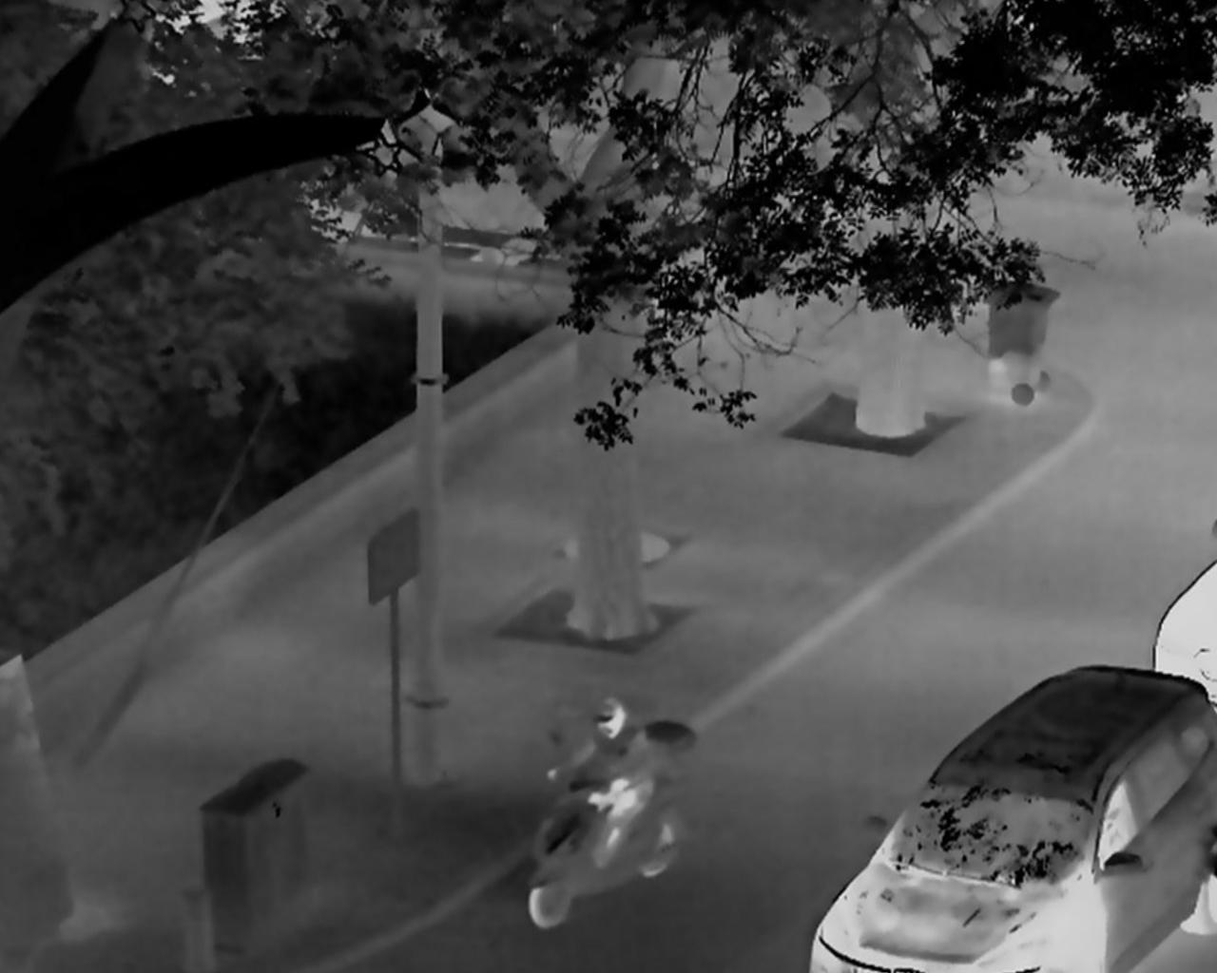person: (545, 696, 655, 872)
